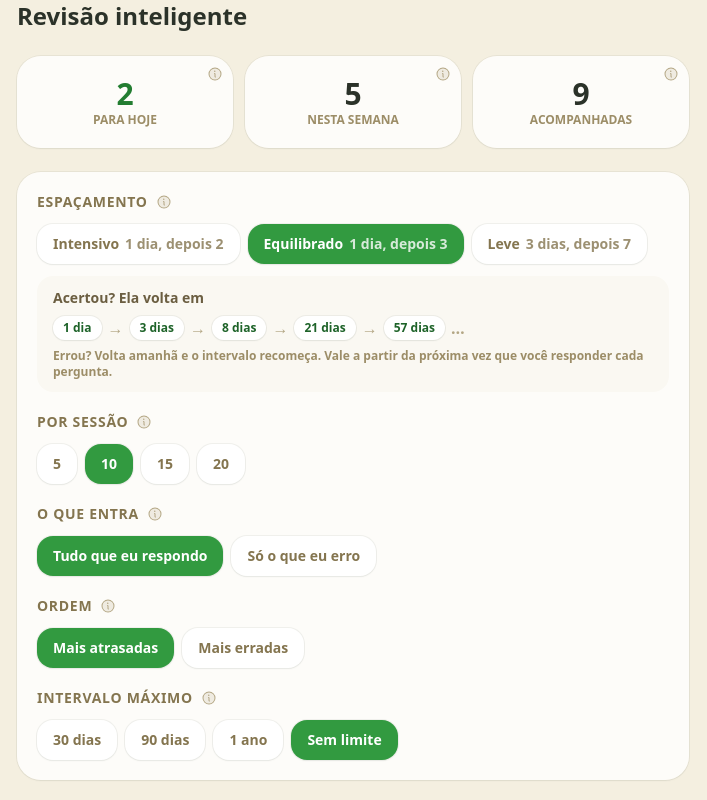
Test case: ReviewPage › refreshes the counters after a setting that changes what is due
Click the button "Só o que eu erro": {"x": 304, "y": 556} x1=231 y1=536 x2=376 y2=576
(page scrolled)
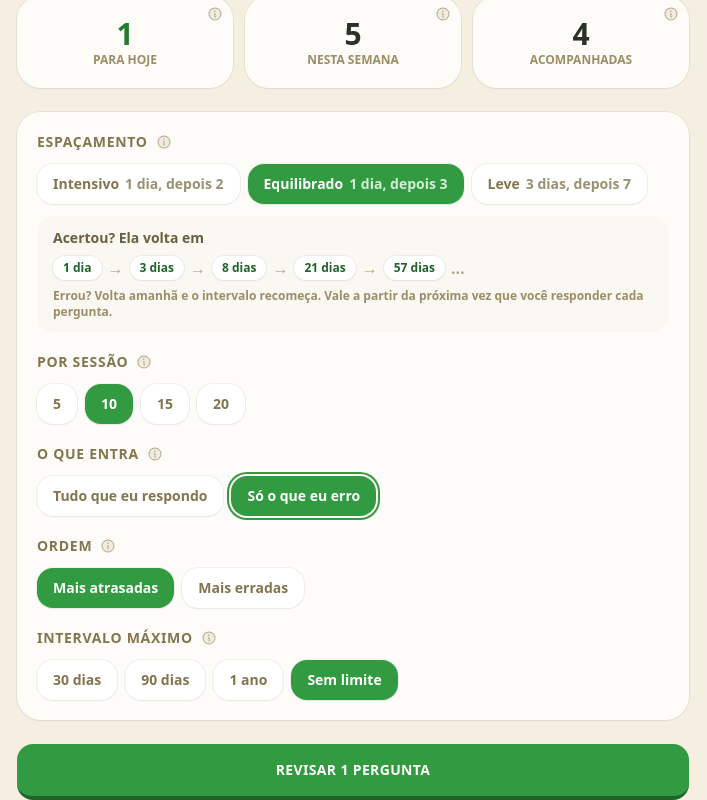
Now the button "Revisar 1 pergunta" is shown, box x1=17 y1=744 x2=689 y2=799
